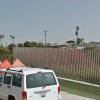Car: (4, 56, 63, 100)
